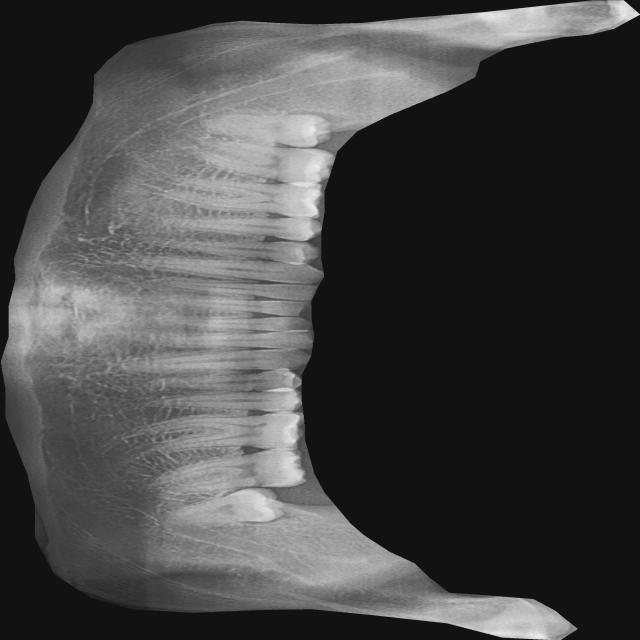mandibula: (0, 0, 639, 640)
